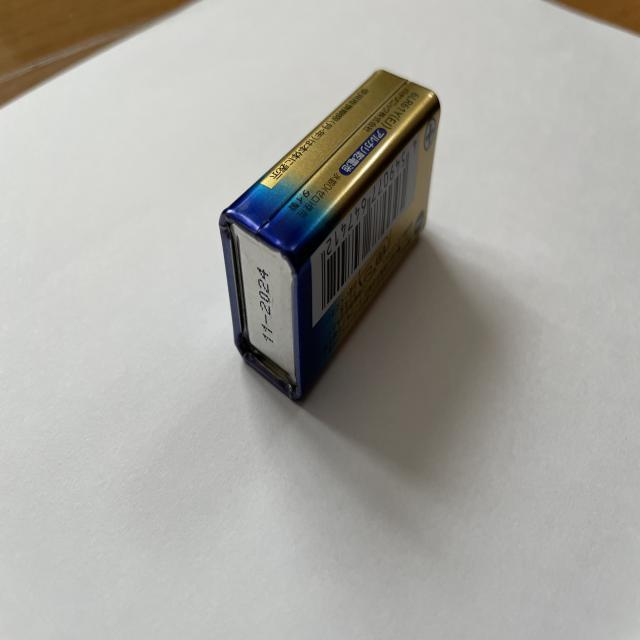9V: (218, 68, 441, 400)
